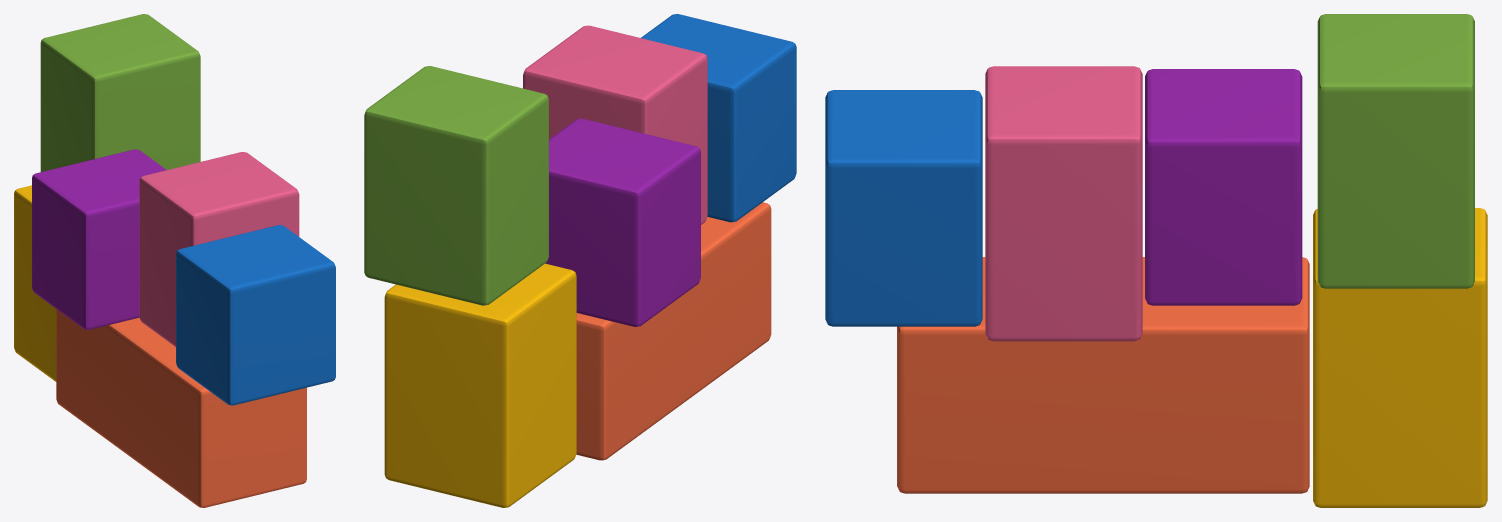
3 views of the same model, side by side, from view 1: azimuth 30°, elevation 25°; view 2: azimuth 150°, elevation 25°; view 3: azimuth 270°, elevation 25° (orthographic). The views are drawn at different scales.
Parts seen in each view (by area): view 1: base_010; view 2: base_010; view 3: base_010.
Boxes of the visible parts, box(x1,y1,x2,y2) form: base_010: box(14, 14, 335, 507); base_010: box(364, 14, 796, 507); base_010: box(825, 14, 1487, 507).
Size of the model in its own units: 4040 by 6768 by 9215.
Materials: 1 (1 with a texture image).
